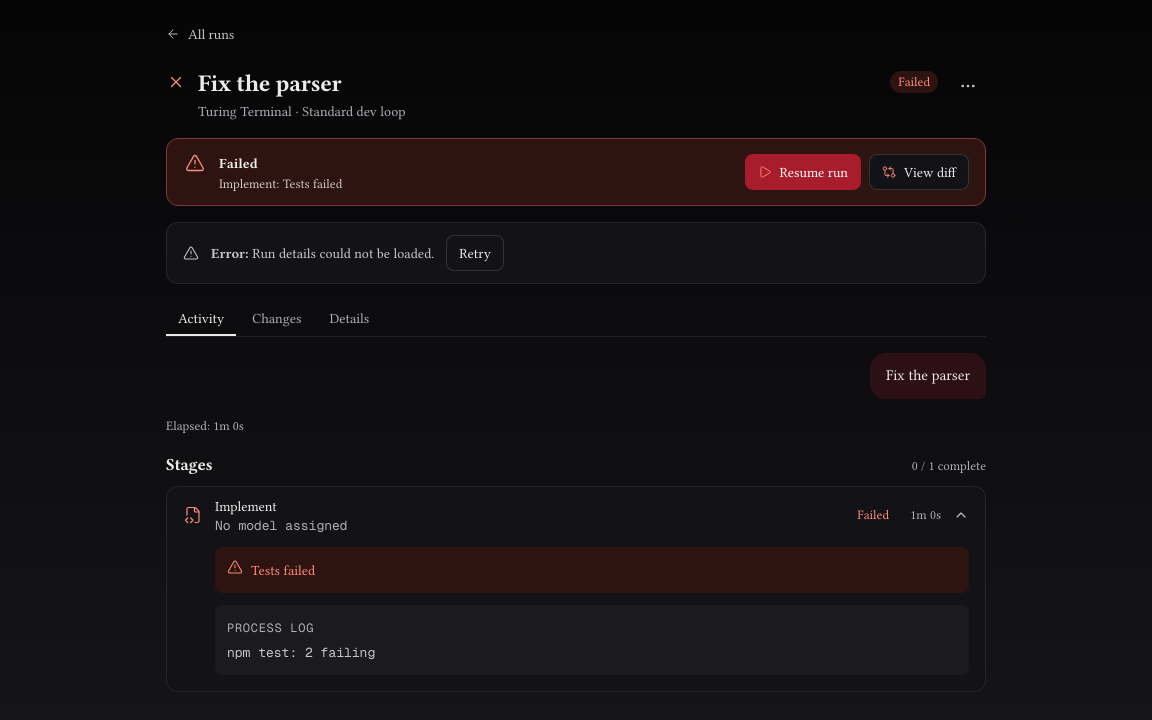
Test case: details loading and error (matrix R3) › [RED] a failed run-details request shows an alert with Retry, and Retry loads the details
The image size is (1152, 720).
Expected: the message shows "Run details could not be loaded", 249,245 -> 434,261
Click the button "Retry" at (475, 253), box 446,235 -> 504,271
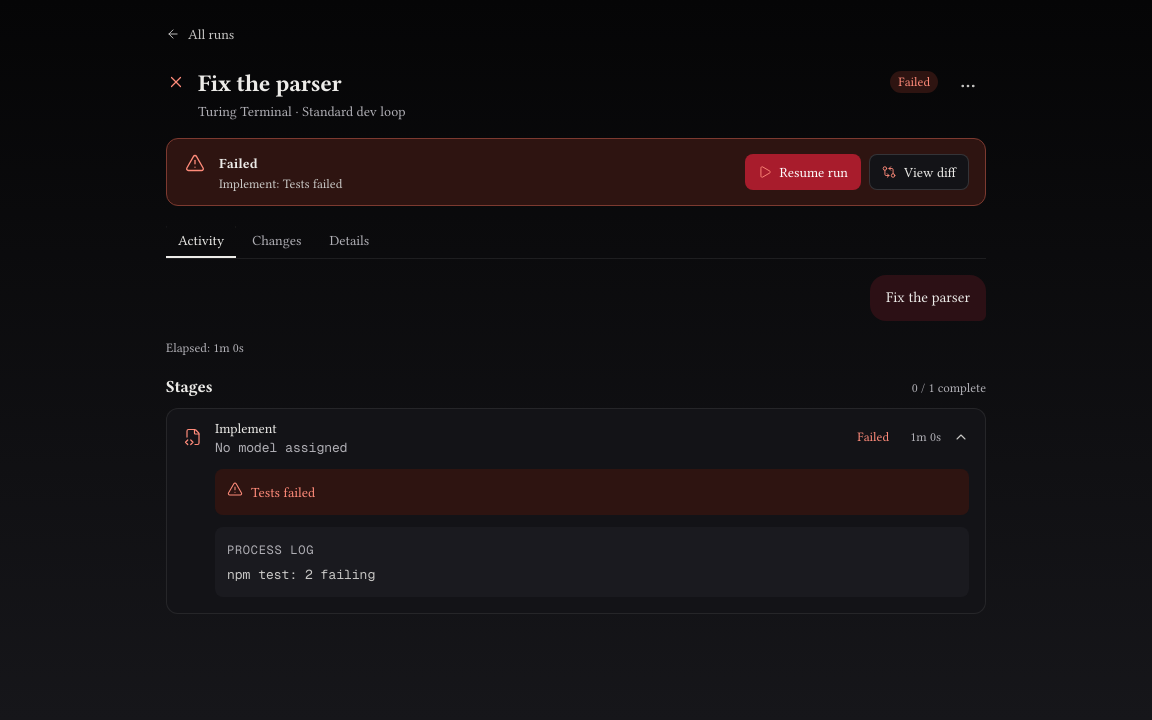
Expected: the message "Error: Run details could not be loaded. Retry" is gone
